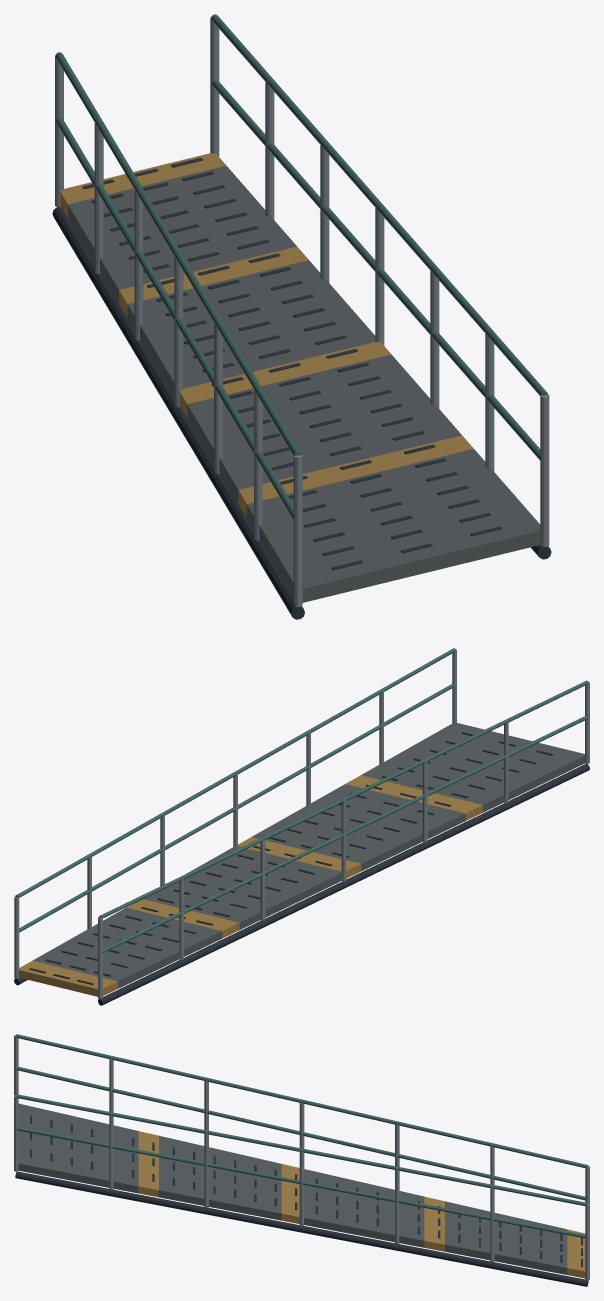
The model's file is PZ-01_link_span.glb.
3 renders of one model, top to bottom at view 1: azimuth 30°, elevation 25°; view 2: azimuth 150°, elevation 25°; view 3: azimuth 270°, elevation 25°, orthographic. The views are drawn at different scales.
Visible parts, largest first — view 1: PZ-01_link_span; view 2: PZ-01_link_span; view 3: PZ-01_link_span.
Boxes of the visible parts, x1,y1,x2,y2 form: PZ-01_link_span: (52,14,551,619); PZ-01_link_span: (14,648,589,1005); PZ-01_link_span: (14,1034,589,1286).
Size of the model in its own units: 4.05 by 2.06 by 8.09.
